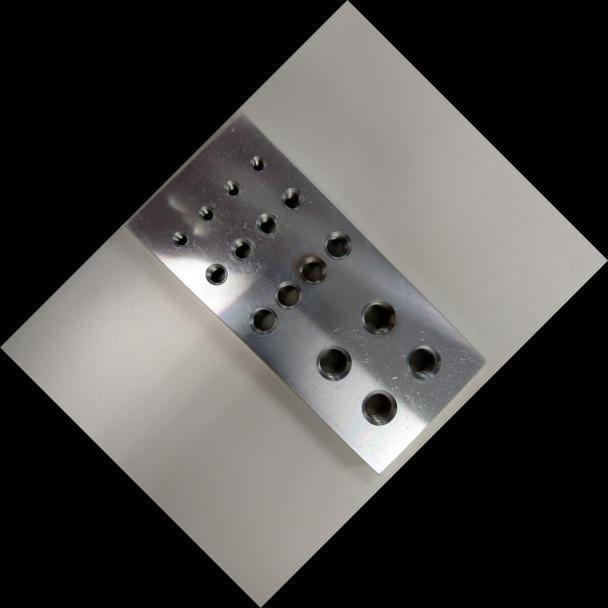hole: (352, 291, 404, 343), (353, 381, 405, 433), (307, 337, 359, 389), (398, 336, 448, 386), (242, 299, 284, 342), (267, 274, 309, 316), (317, 224, 358, 266), (292, 249, 333, 291), (250, 207, 285, 242), (225, 232, 259, 266), (199, 257, 232, 291), (276, 182, 309, 215), (219, 175, 245, 201), (245, 151, 270, 176), (194, 201, 219, 226), (168, 226, 193, 251)
